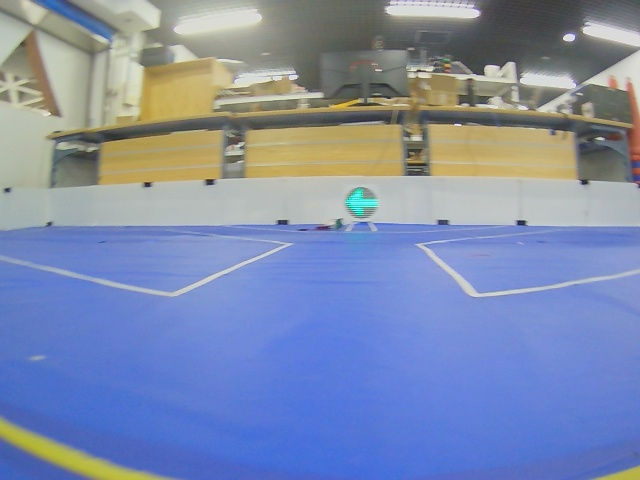left_green: (345, 187, 379, 219)
